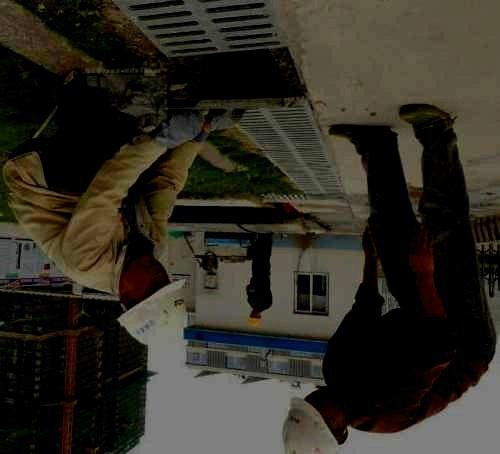helmet: (115, 254, 188, 349), (282, 387, 349, 454), (248, 310, 263, 329)
